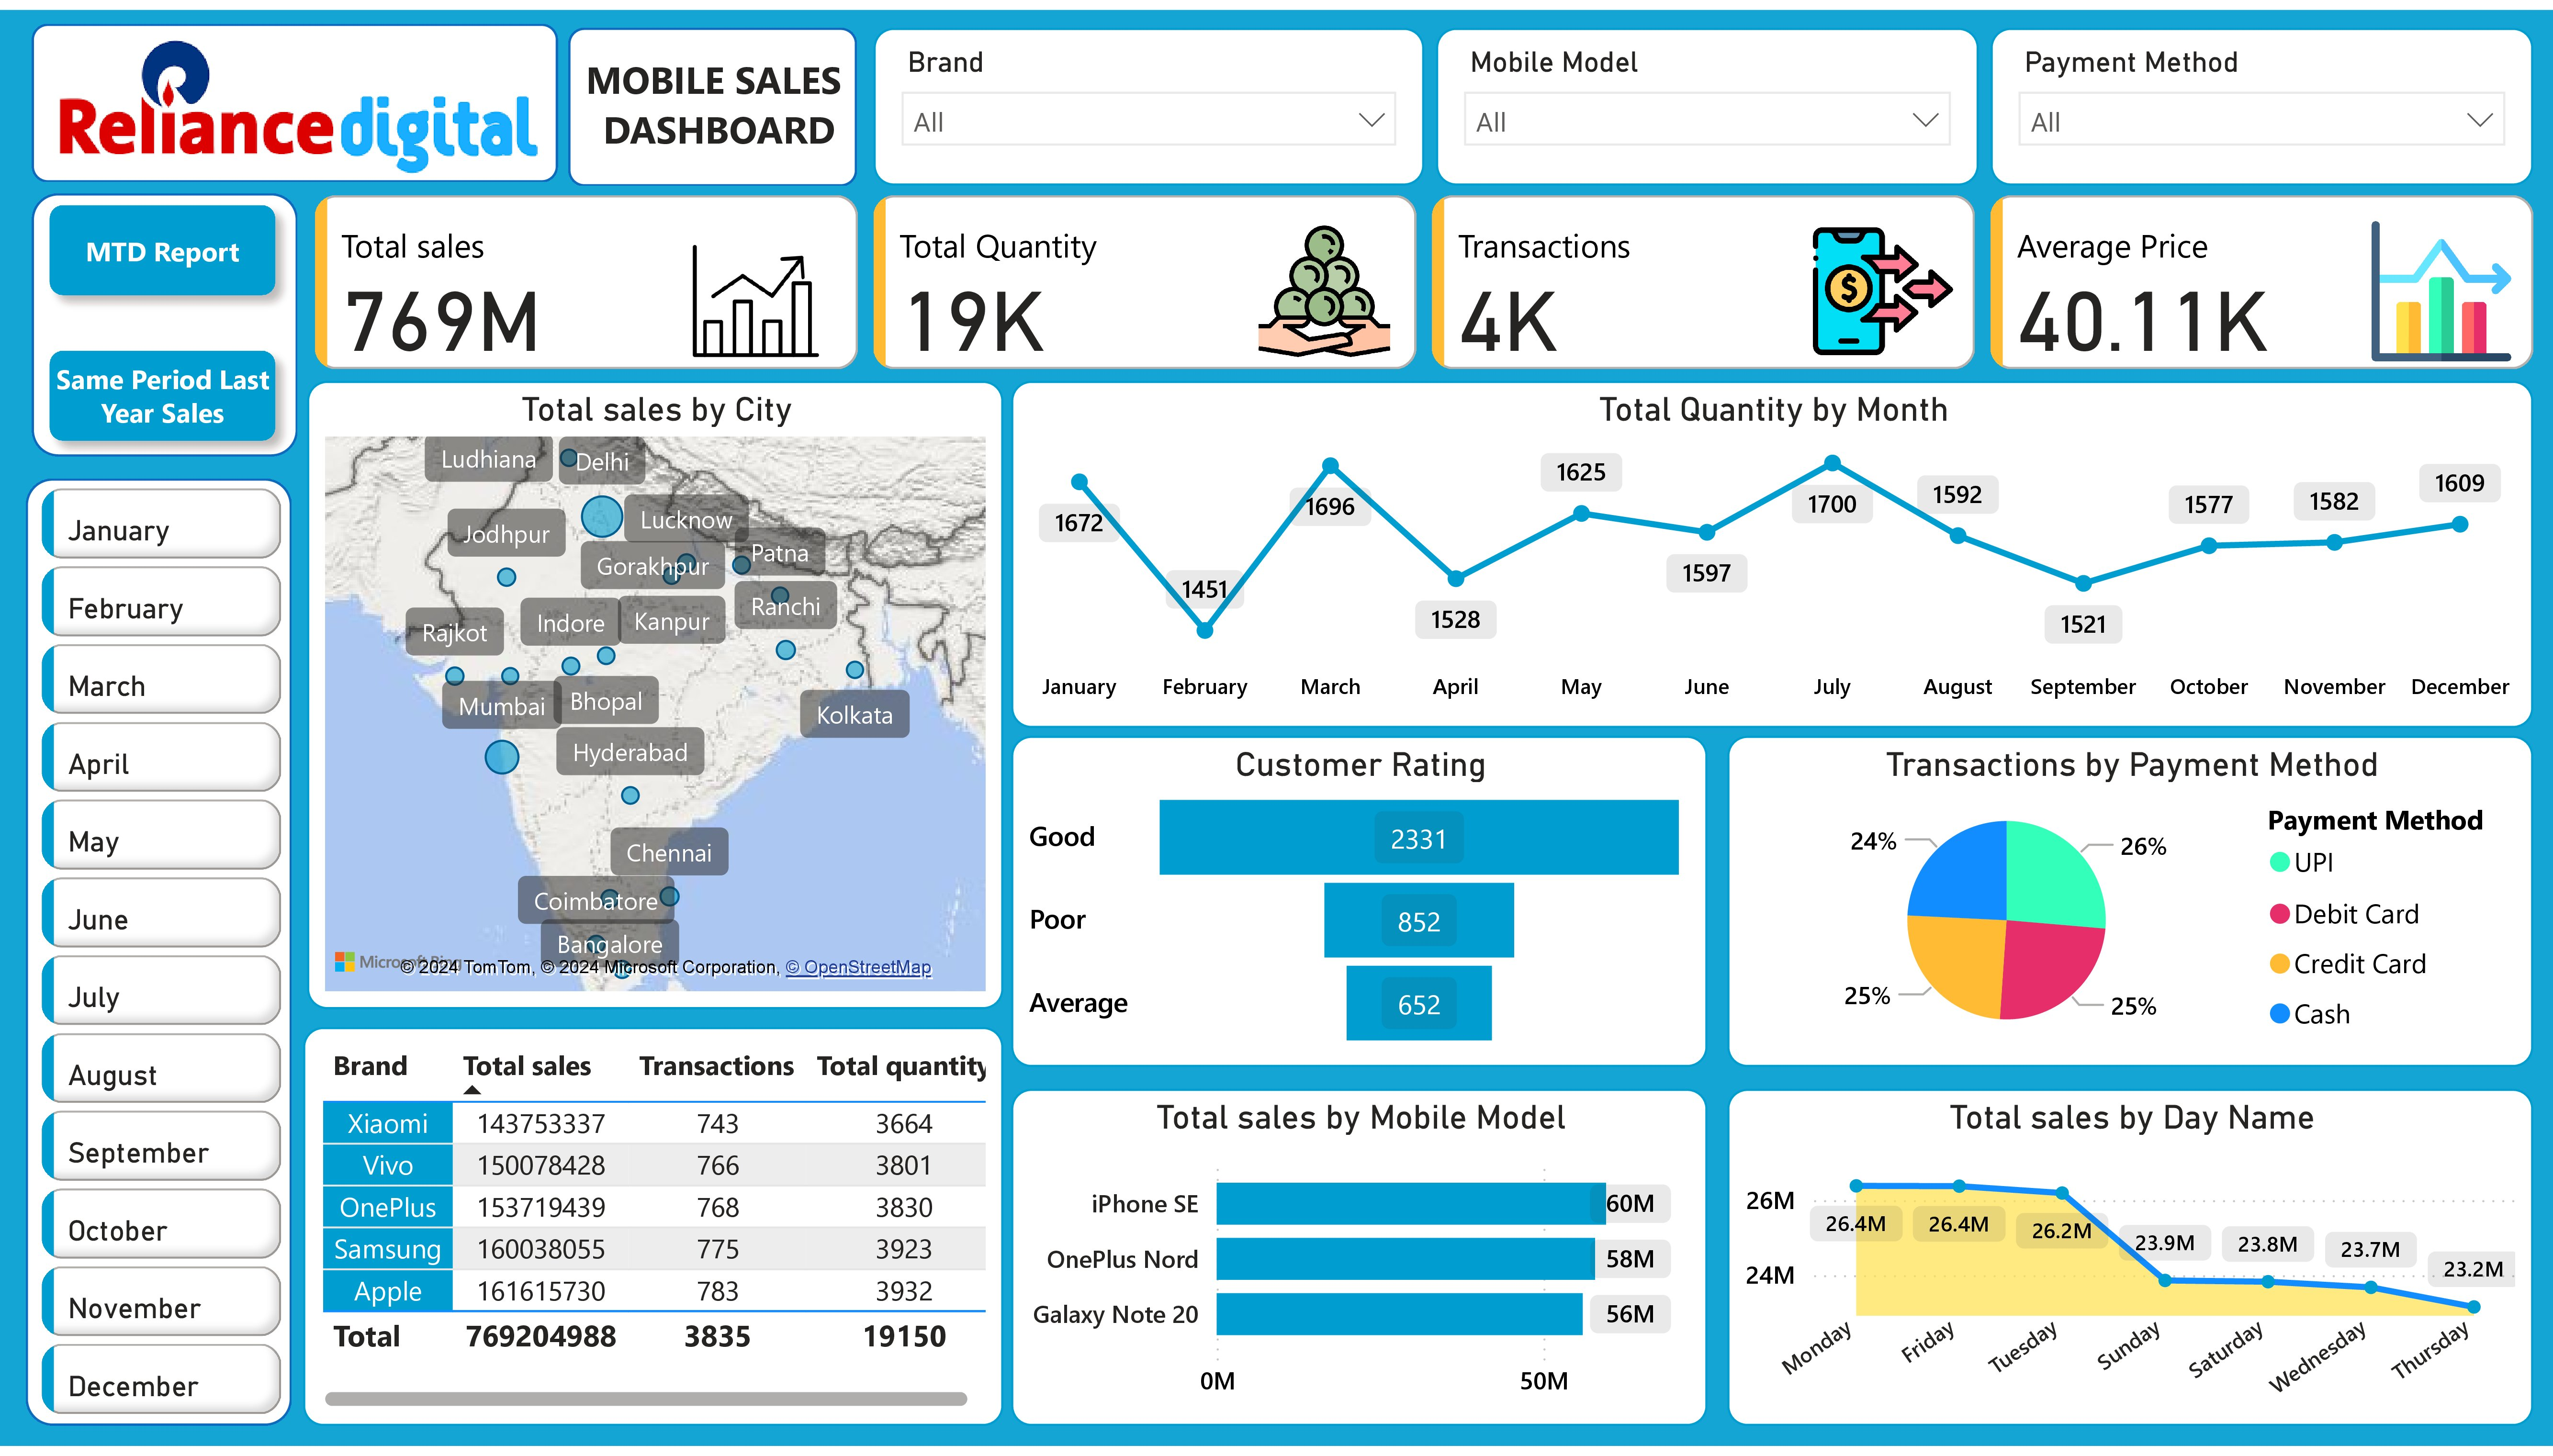

Layout of this report page (visuals, bound fields, positions):
{"tool":"powerbi","page":{"name":"Dashboard","canvas":[1280,720],"ordinal":0},"visuals":[{"type":"shape","box":[15.6,92.1,133.2,131.8],"z":0},{"type":"shape","box":[12.8,235.3,133.2,474.8],"z":1000},{"type":"advancedSlicerVisual","fields":{"Values":["Custom_calender.Date.Variation.Date Hierarchy.Month"]},"box":[15.6,235.3,130.4,484.7],"z":2000},{"type":"cardVisual","fields":{"Data":["Sales Data.Total_sales","Sales Data.Total_Quantity","Sales Data.Transactions","Sales Data.Average_price"]},"box":[153.1,87.9,1122.5,97.8],"z":3000},{"type":"slicer","fields":{"Values":["Sales Data.Brand"]},"box":[438,8.5,276.4,79.4],"z":4000},{"type":"slicer","fields":{"Values":["Sales Data.Mobile Model"]},"box":[720,8.5,272.1,79.4],"z":5000},{"type":"slicer","fields":{"Values":["Sales Data.Payment Method"]},"box":[997.8,8.5,272.1,79.4],"z":6000},{"type":"map","title":"Total sales by City","fields":{"Category":["Sales Data.City"],"Size":["Sales Data.Total_sales"]},"box":[154.5,185.7,348.7,314.6],"z":7000},{"type":"lineChart","title":"Total Quantity by Month","fields":{"Category":["Custom_calender.Date.Variation.Date Hierarchy.Month"],"Y":["Sales Data.Total_Quantity"]},"box":[507.4,185.7,762.5,174.3],"z":8000},{"type":"funnel","title":"Customer Rating ","fields":{"Y":["CountNonNull(Sales Data.Customer Age)"],"Category":["Sales Data.Rating _status"]},"box":[507.4,364.3,348.7,165.8],"z":9000},{"type":"pieChart","fields":{"Category":["Sales Data.Payment Method"],"Y":["Sales Data.Transactions"]},"box":[866,364.3,403.9,165.8],"z":10000},{"type":"clusteredBarChart","title":"Total sales by Mobile Model","fields":{"Category":["Sales Data.Mobile Model"],"Y":["Sales Data.Total_sales"]},"box":[507.4,541.4,348.7,168.7],"z":11000},{"type":"tableEx","fields":{"Values":["Sales Data.Brand","Sales Data.Total_sales","Sales Data.Transactions","Sales Data.Total_Quantity"]},"box":[151.7,510.2,351.5,199.8],"z":12000},{"type":"shape","box":[284.9,8.5,144.6,79.4],"z":13000},{"type":"areaChart","title":"Total sales by Day Name","fields":{"Y":["Sales Data.Total_sales"],"Category":["Custom_calender.Day Name"]},"box":[866,541.4,403.9,168.7],"z":14000},{"type":"pageNavigator","box":[15.6,89.3,131.8,137.5],"z":15000},{"type":"shape","box":[15.6,7.1,263.6,79.4],"z":16000},{"type":"textbox","box":[286.3,17,148.8,69.4],"z":17000},{"type":"image","box":[22.7,8.5,253.7,78],"z":18000}]}

Visuals, with their boxes in screenshot pixels (x1, y1, x2, y2), scaled from the page's 1280x720 canvas onto the 2553x1456 screenshot:
shape: <region>31, 186, 297, 453</region>
shape: <region>25, 476, 291, 1436</region>
advancedSlicerVisual - Custom_calender.Date.Variation.Date Hierarchy.Month: <region>31, 476, 291, 1456</region>
cardVisual - Sales Data.Total_sales x Sales Data.Total_Quantity: <region>305, 178, 2544, 376</region>
slicer - Sales Data.Brand: <region>874, 17, 1425, 178</region>
slicer - Sales Data.Mobile Model: <region>1436, 17, 1979, 178</region>
slicer - Sales Data.Payment Method: <region>1990, 17, 2533, 178</region>
"Total sales by City" map: <region>308, 376, 1004, 1012</region>
"Total Quantity by Month" lineChart: <region>1012, 376, 2533, 728</region>
"Customer Rating " funnel: <region>1012, 737, 1708, 1072</region>
pieChart - Sales Data.Payment Method x Sales Data.Transactions: <region>1727, 737, 2533, 1072</region>
"Total sales by Mobile Model" clusteredBarChart: <region>1012, 1095, 1708, 1436</region>
tableEx - Sales Data.Brand x Sales Data.Total_sales: <region>303, 1032, 1004, 1436</region>
shape: <region>568, 17, 856, 178</region>
"Total sales by Day Name" areaChart: <region>1727, 1095, 2533, 1436</region>
pageNavigator: <region>31, 180, 294, 459</region>
shape: <region>31, 14, 557, 175</region>
textbox: <region>571, 34, 868, 175</region>
image: <region>45, 17, 551, 175</region>
